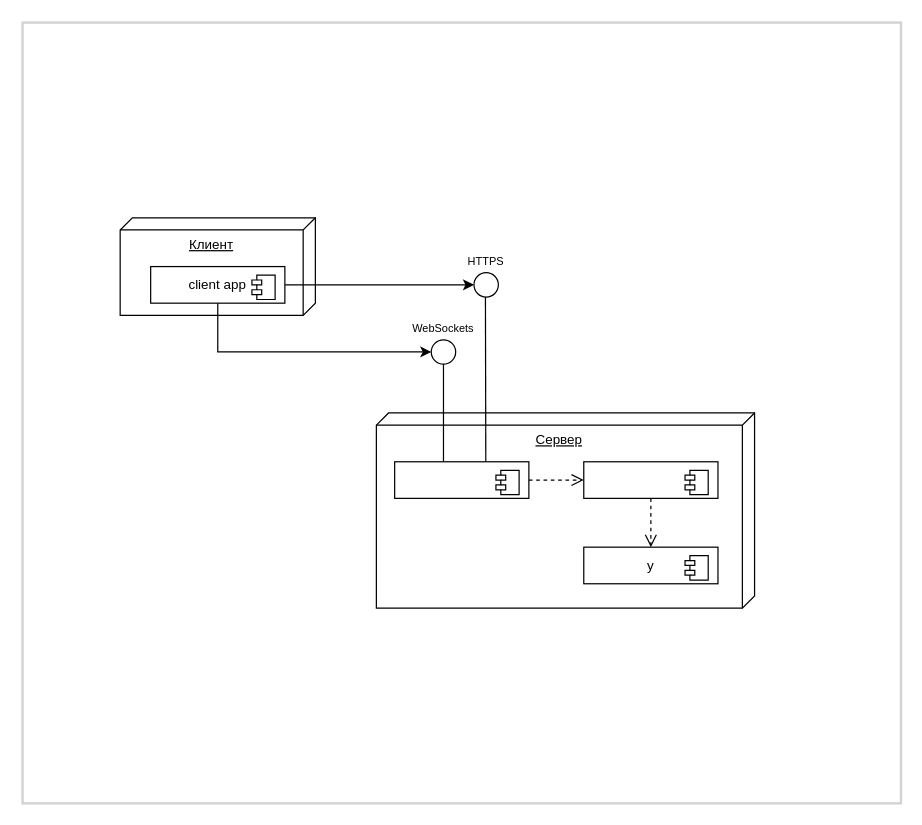
Image size: 922x825. Some labels were removed from this diagram. The shapes that lost their labels are listed below. From the top down, each one's centre as x and y in pixels, then its label:
At (x=461, y=479): "nginx".
At (x=650, y=479): "uvicorn".
